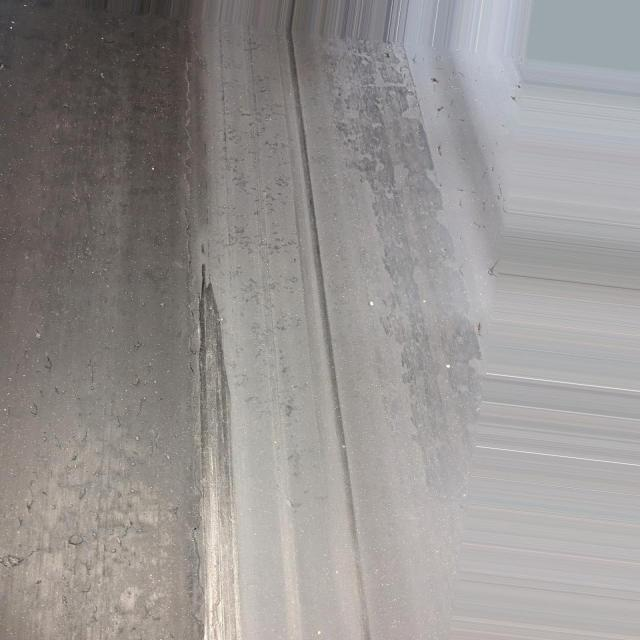Wear: (195, 270, 238, 640)
